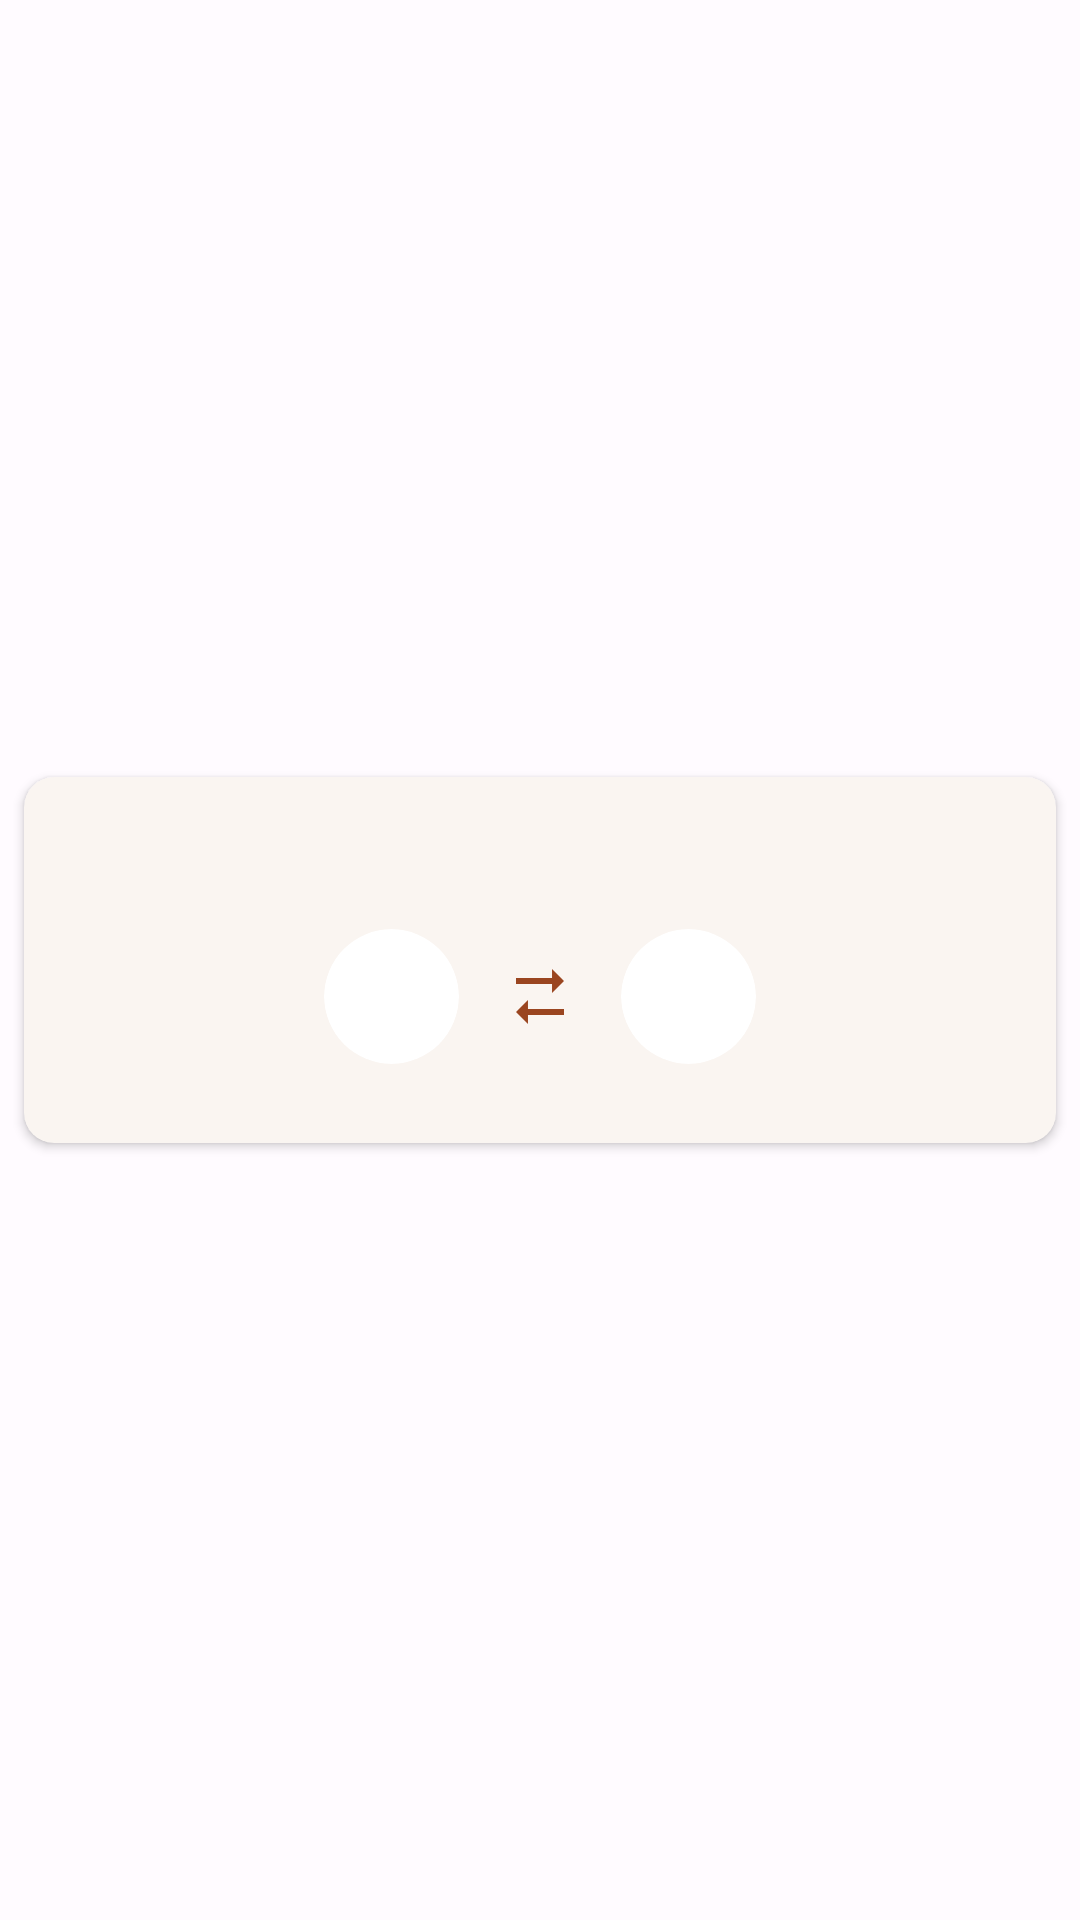

Locate icon controls on the screen. Image size 1080px×1920px, boxes as (x1, y1, x2, y2).
left to right arrow: (516, 969, 564, 993)
